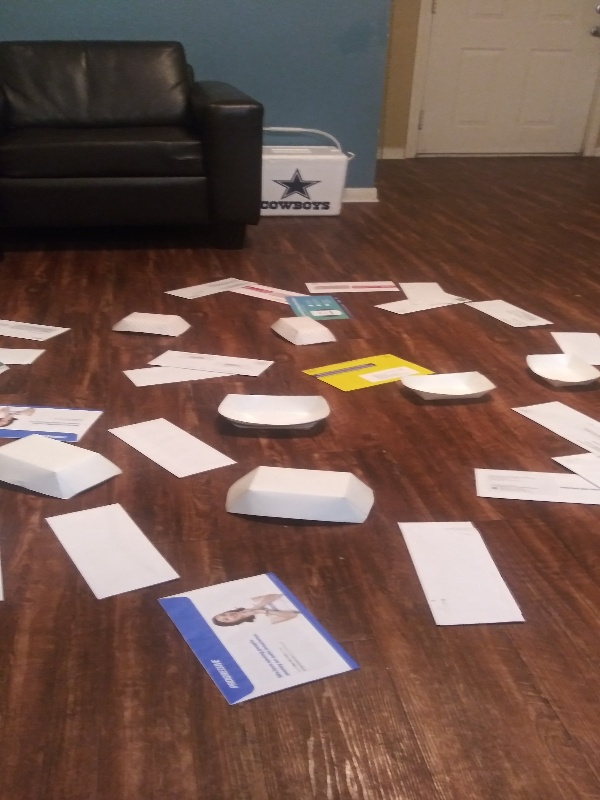plate: (219, 461, 382, 530), (1, 431, 128, 507), (214, 391, 334, 434), (398, 366, 500, 405), (519, 350, 600, 394), (266, 312, 340, 352), (108, 311, 195, 341)
